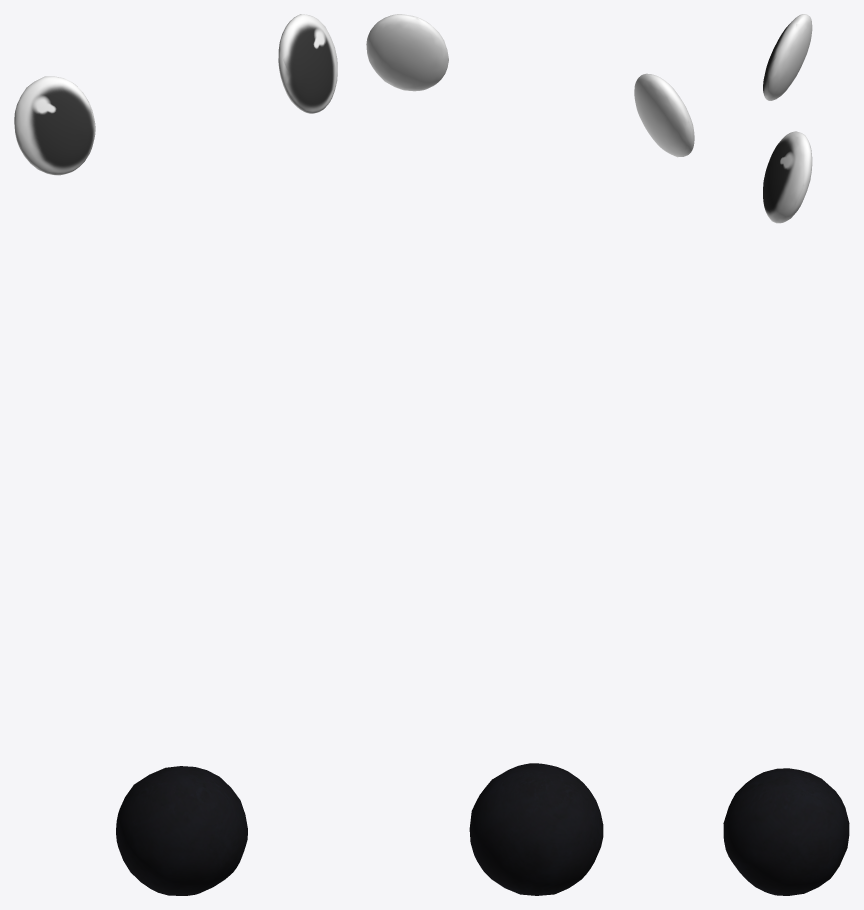
The model's file is Bubu_Plastic_MESH.fbx.
3 views of the same model, side by side, from view 1: azimuth 30°, elevation 25°; view 2: azimuth 150°, elevation 25°; view 3: azimuth 270°, elevation 25° (orthographic). The views are drawn at different scales.
Visible parts, largest first — view 1: Bubu_Plastic_MESH; view 2: Bubu_Plastic_MESH; view 3: Bubu_Plastic_MESH.
Boxes of the visible parts, x1,y1,x2,y2 form: Bubu_Plastic_MESH: [14, 14, 337, 895]; Bubu_Plastic_MESH: [366, 14, 694, 895]; Bubu_Plastic_MESH: [723, 14, 849, 895].
Bounding box in the file's own units: 0.6216 × 1.56 × 0.2184.
1 material, 1 textured.
